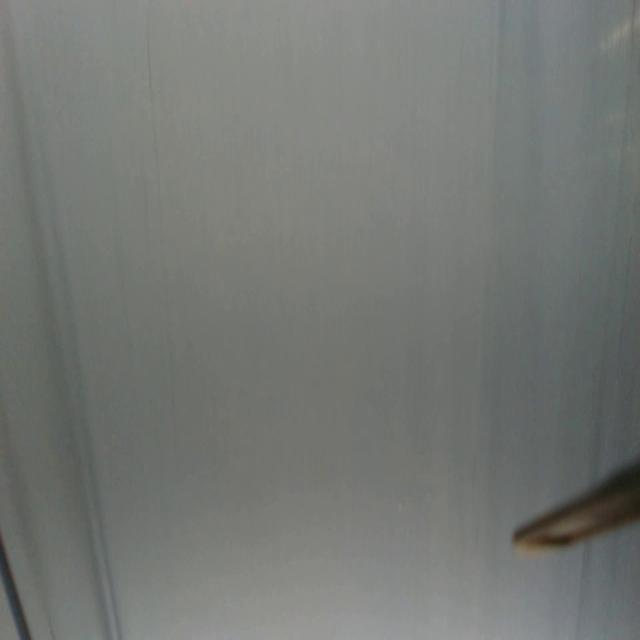crease: (145, 23, 164, 202)
